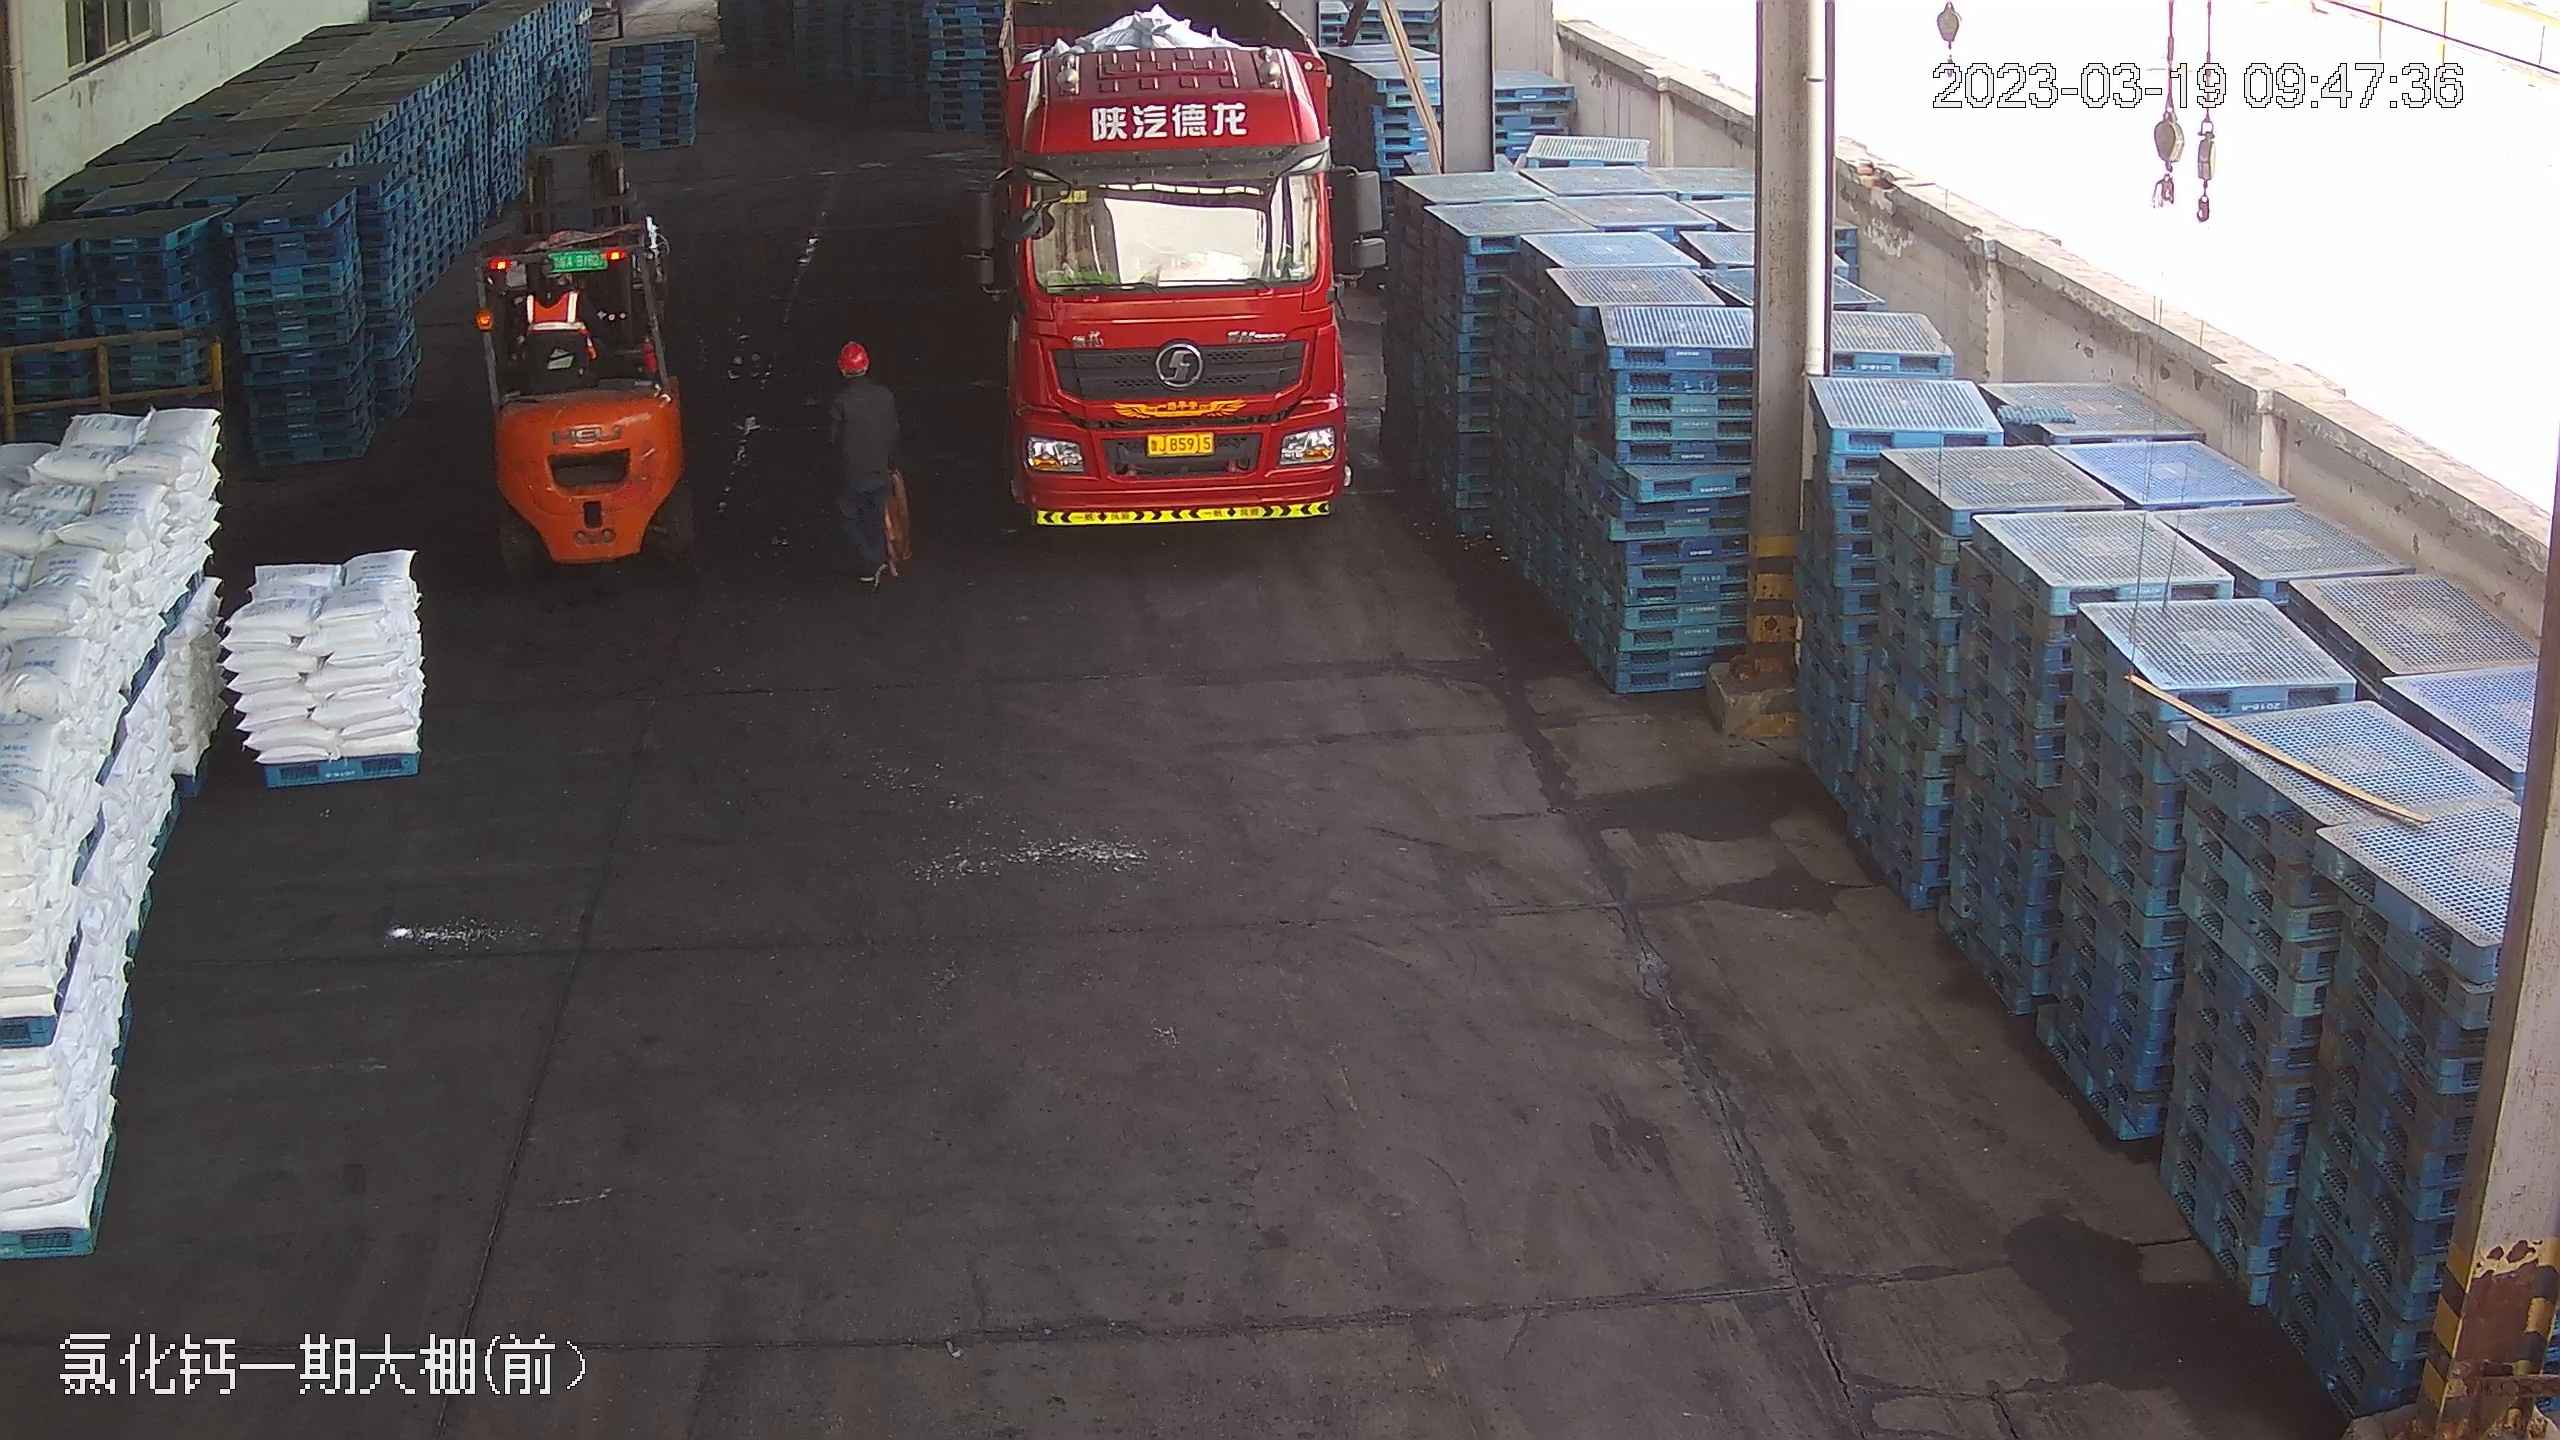head: (827, 337, 893, 410)
helmet: (836, 336, 871, 367)
people: (823, 335, 910, 584)
truck: (978, 0, 1357, 528)
